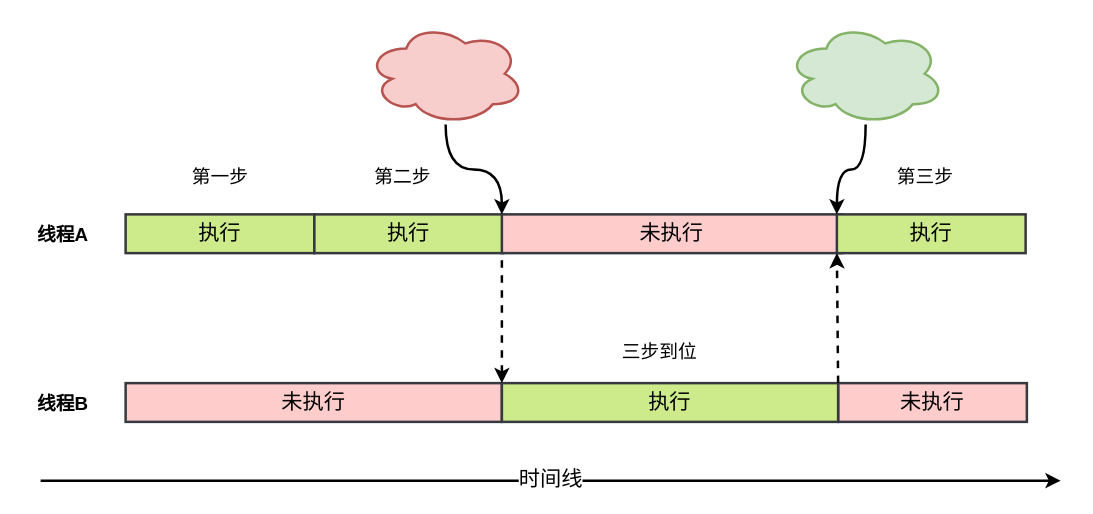
The diagram is 1093 pixels wide and 514 high, and some of its shapes have lost their labels. Each missing label, with the box of its shape:
时间片使用完: (365, 21, 525, 125)
重新调度: (785, 21, 945, 125)
